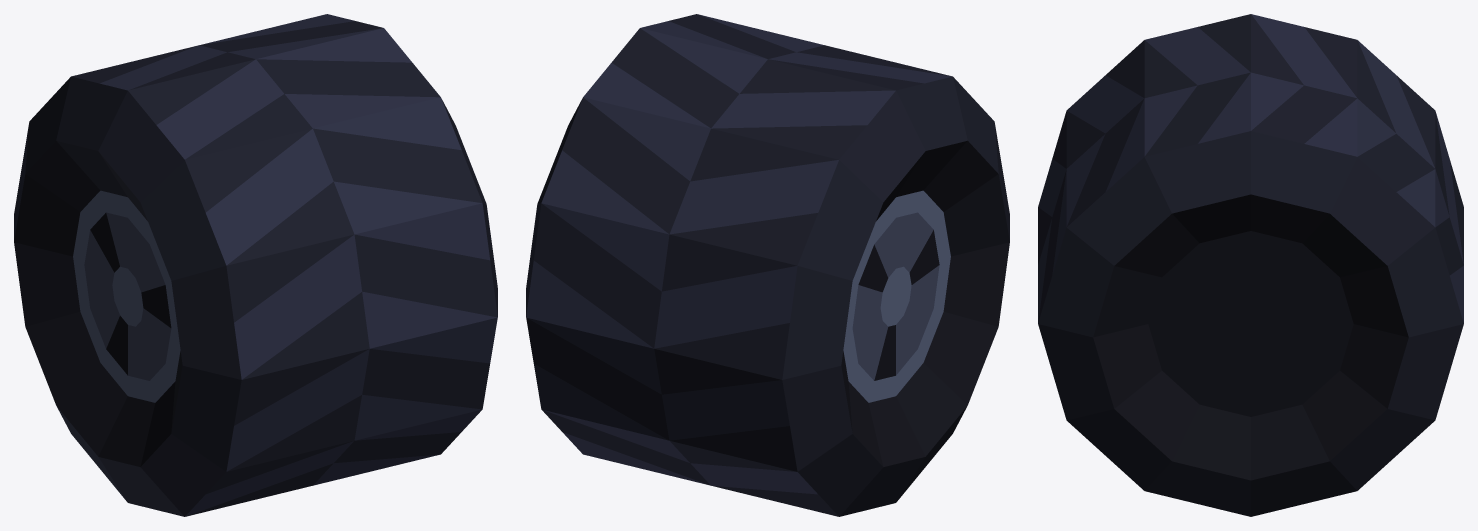
The model's file is 232_wheel.gltf.
3 views of the same model, side by side, from view 1: azimuth 30°, elevation 25°; view 2: azimuth 150°, elevation 25°; view 3: azimuth 270°, elevation 25° (orthographic). The views are drawn at different scales.
Visible parts, largest first — view 1: wheel; view 2: wheel; view 3: wheel.
Part boxes in pixels (x1=…): wheel: x1=14, y1=14, x2=497, y2=516; wheel: x1=526, y1=14, x2=1009, y2=516; wheel: x1=1038, y1=14, x2=1463, y2=516.
Bounding box in the file's own units: 0.8 × 1 × 1.
Materials: 1 (1 with a texture image).
